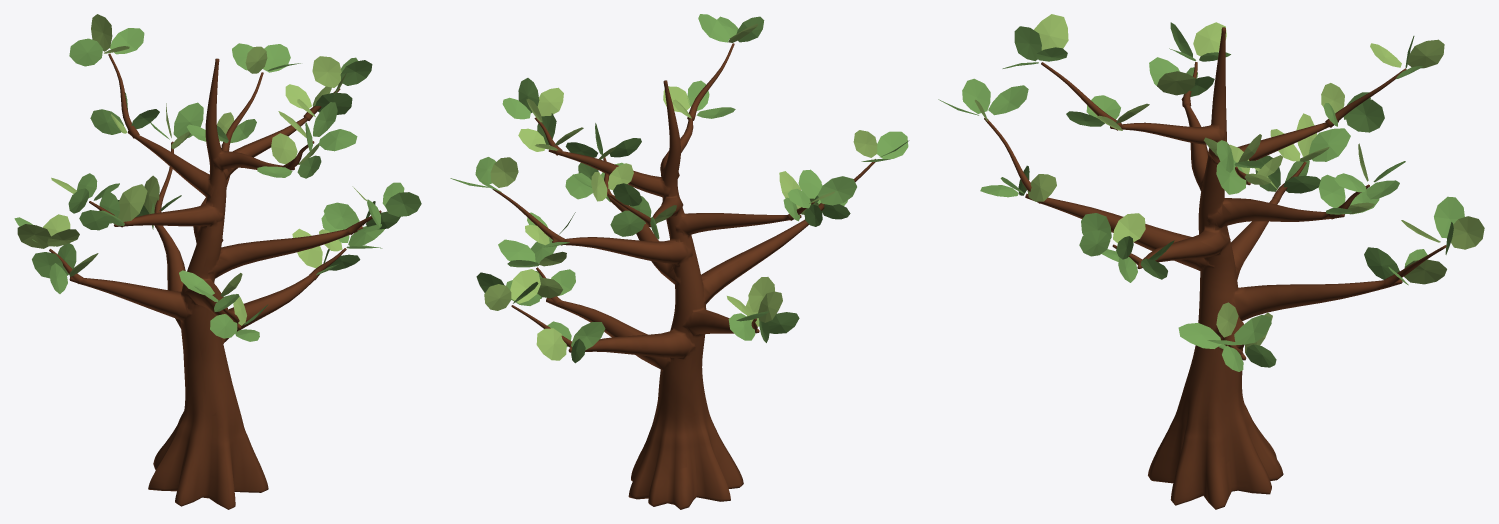
File: Tree_Mature_Asymmetrical_LOD2.fbx
The picture shows the model from 3 angles, left to right: view 1: azimuth 30°, elevation 25°; view 2: azimuth 150°, elevation 25°; view 3: azimuth 270°, elevation 25°; orthographic projection. The views are drawn at different scales.
Parts seen in each view (by area): view 1: Tree_Mature_Asymmetrical_Bark_LOD2_FBX_Triangulated, Tree_Mature_Asymmetrical_Foliage_LOD2_FBX_Triangulated; view 2: Tree_Mature_Asymmetrical_Bark_LOD2_FBX_Triangulated, Tree_Mature_Asymmetrical_Foliage_LOD2_FBX_Triangulated; view 3: Tree_Mature_Asymmetrical_Bark_LOD2_FBX_Triangulated, Tree_Mature_Asymmetrical_Foliage_LOD2_FBX_Triangulated.
Part boxes in pixels (box(x1,y1,x2,y2)): Tree_Mature_Asymmetrical_Bark_LOD2_FBX_Triangulated: box(49, 53, 381, 509); Tree_Mature_Asymmetrical_Foliage_LOD2_FBX_Triangulated: box(14, 14, 421, 341); Tree_Mature_Asymmetrical_Bark_LOD2_FBX_Triangulated: box(492, 43, 875, 509); Tree_Mature_Asymmetrical_Foliage_LOD2_FBX_Triangulated: box(450, 14, 909, 363); Tree_Mature_Asymmetrical_Bark_LOD2_FBX_Triangulated: box(984, 27, 1446, 509); Tree_Mature_Asymmetrical_Foliage_LOD2_FBX_Triangulated: box(938, 14, 1484, 371).
Size of the model in its own units: 5.01 by 5.98 by 6.32.
